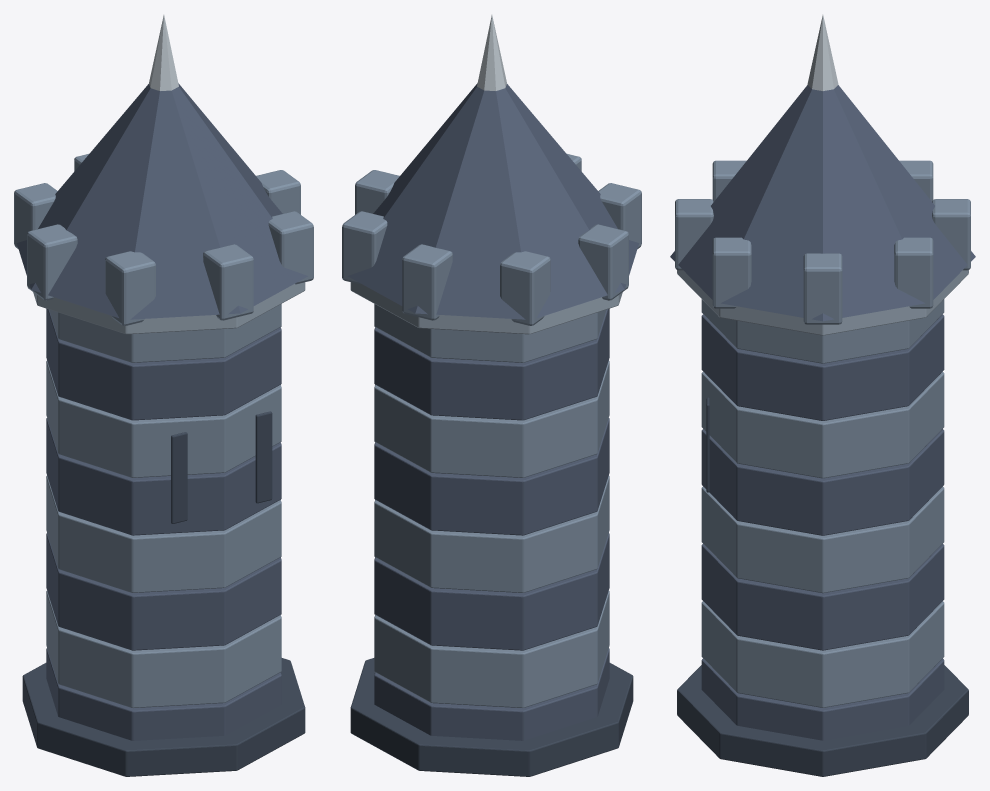
The model's file is tower.glb.
3 renders of one model, left to right at view 1: azimuth 30°, elevation 25°; view 2: azimuth 150°, elevation 25°; view 3: azimuth 270°, elevation 25°, orthographic.
Visible parts, largest first — view 1: Tower_Roof, Tower_Course_2, Tower_Course_3, Tower_Course_1, Tower_Course_6, Tower_Base, Tower_Course_5, Tower_Course_4, Tower_Course_0, Tower_Course_7, Tower_Crown, Tower_Merlon.005 (+8 smaller); view 2: Tower_Roof, Tower_Course_5, Tower_Course_2, Tower_Course_3, Tower_Course_4, Tower_Course_1, Tower_Course_6, Tower_Base, Tower_Course_0, Tower_Course_7, Tower_Crown, Tower_Merlon.003 (+6 smaller); view 3: Tower_Roof, Tower_Course_1, Tower_Course_2, Tower_Course_3, Tower_Course_6, Tower_Course_5, Tower_Course_4, Tower_Base, Tower_Course_0, Tower_Course_7, Tower_Crown, Tower_Merlon (+7 smaller).
Part boxes in pixels (x1=…): Tower_Roof: x1=16, y1=83, x2=307, y2=319; Tower_Course_2: x1=46, y1=533, x2=281, y2=650; Tower_Course_3: x1=46, y1=475, x2=281, y2=592; Tower_Course_1: x1=46, y1=591, x2=281, y2=707; Tower_Course_6: x1=46, y1=308, x2=281, y2=420; Tower_Base: x1=22, y1=658, x2=305, y2=776; Tower_Course_5: x1=46, y1=360, x2=281, y2=477; Tower_Course_4: x1=46, y1=418, x2=281, y2=535; Tower_Course_0: x1=46, y1=648, x2=281, y2=740; Tower_Course_7: x1=49, y1=304, x2=281, y2=362; Tower_Crown: x1=33, y1=282, x2=305, y2=334; Tower_Merlon.005: x1=105, y1=251, x2=155, y2=325; Tower_Roof: x1=348, y1=83, x2=639, y2=319; Tower_Course_5: x1=374, y1=360, x2=609, y2=477; Tower_Course_2: x1=374, y1=533, x2=609, y2=650; Tower_Course_3: x1=374, y1=475, x2=609, y2=592; Tower_Course_4: x1=374, y1=418, x2=609, y2=535; Tower_Course_1: x1=374, y1=591, x2=609, y2=707; Tower_Course_6: x1=374, y1=308, x2=609, y2=420; Tower_Base: x1=350, y1=658, x2=633, y2=776; Tower_Course_0: x1=374, y1=648, x2=609, y2=740; Tower_Course_7: x1=374, y1=304, x2=606, y2=362; Tower_Crown: x1=350, y1=282, x2=622, y2=334; Tower_Merlon.003: x1=500, y1=251, x2=550, y2=325; Tower_Roof: x1=670, y1=85, x2=975, y2=321; Tower_Course_1: x1=701, y1=601, x2=944, y2=707; Tower_Course_2: x1=701, y1=544, x2=944, y2=650; Tower_Course_3: x1=701, y1=486, x2=944, y2=593; Tower_Course_6: x1=701, y1=314, x2=944, y2=420; Tower_Course_5: x1=701, y1=371, x2=944, y2=478; Tower_Course_4: x1=701, y1=429, x2=944, y2=535; Tower_Base: x1=677, y1=665, x2=968, y2=776; Tower_Course_0: x1=701, y1=658, x2=944, y2=740; Tower_Course_7: x1=701, y1=299, x2=944, y2=363; Tower_Crown: x1=677, y1=270, x2=968, y2=335; Tower_Merlon: x1=803, y1=253, x2=842, y2=324.
Size of the model in its own units: 3.14 by 7.95 by 3.14.
